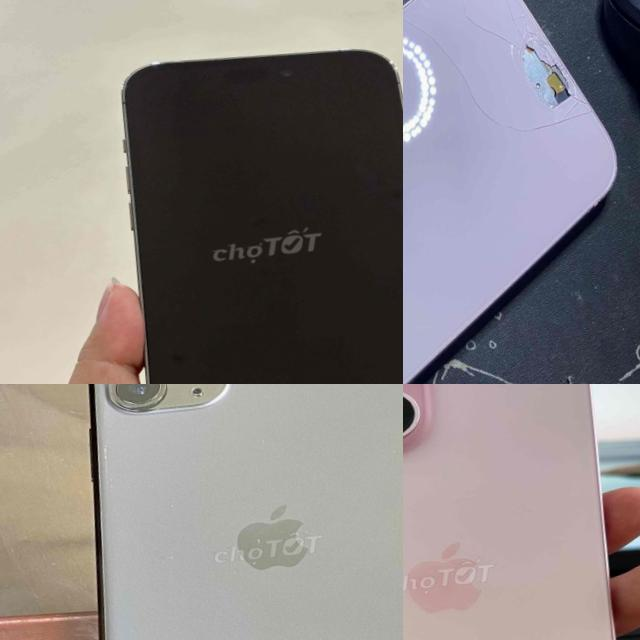gen_11: (57, 384, 403, 640)
gen_12_13: (403, 0, 640, 384)
gen_14: (88, 26, 403, 384)
gen_15: (403, 384, 640, 640)
